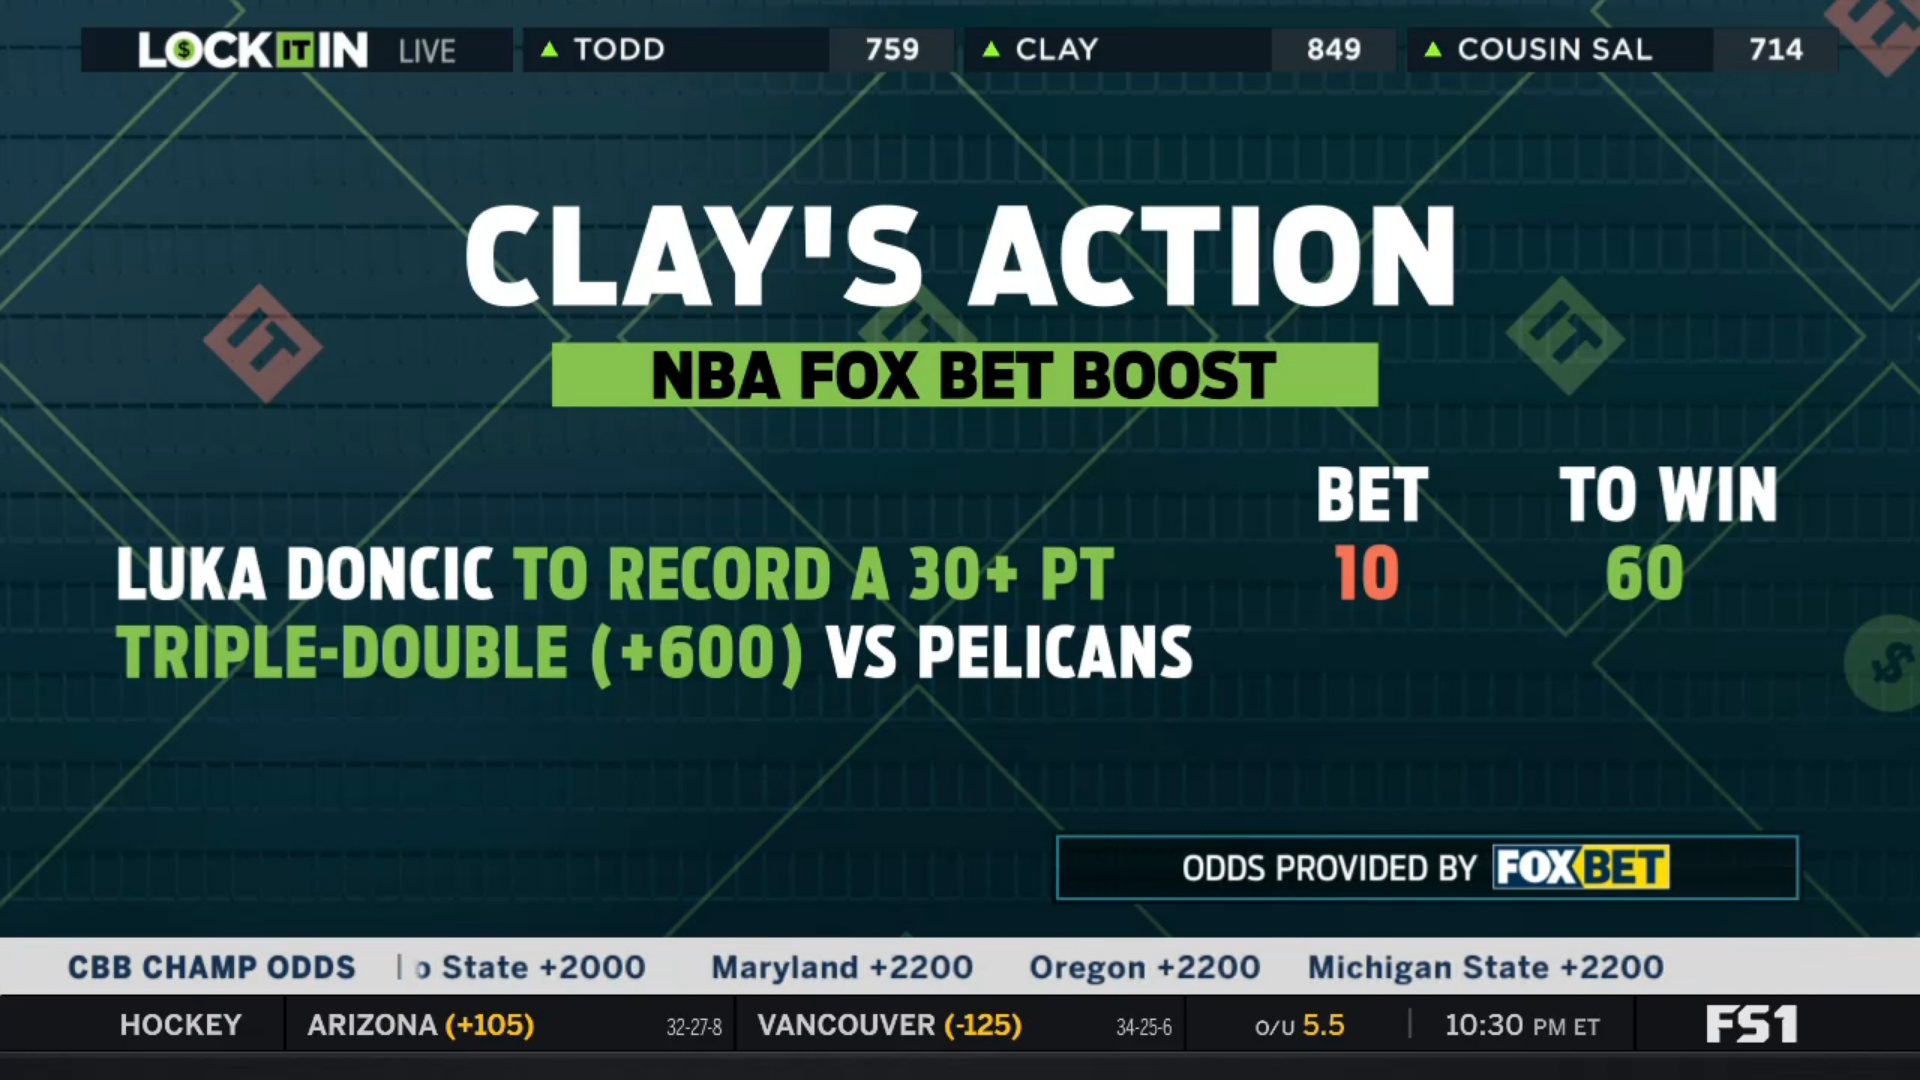Bet: (103, 530, 1211, 692)
Bet Amount: (1305, 452, 1437, 612)
Subtitle: (541, 332, 1393, 417)
Title: (450, 190, 1468, 318)
To Win: (1547, 450, 1792, 612)
Top Bar: (73, 17, 1847, 80)
